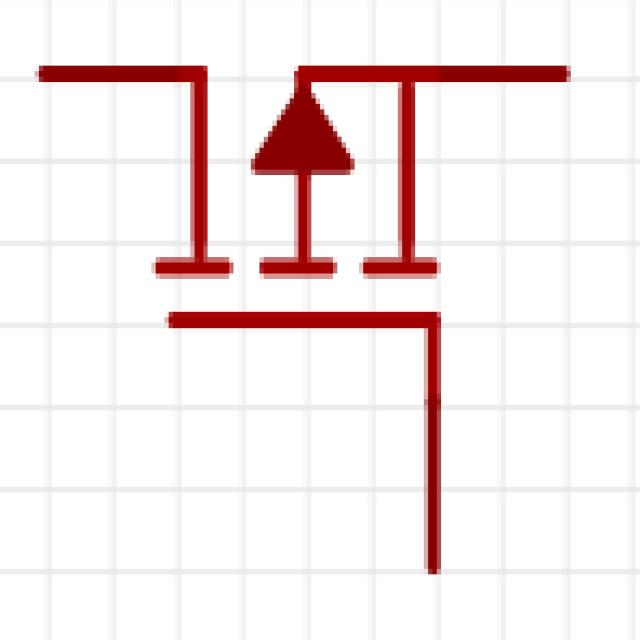pmos: (62, 24, 575, 558)
